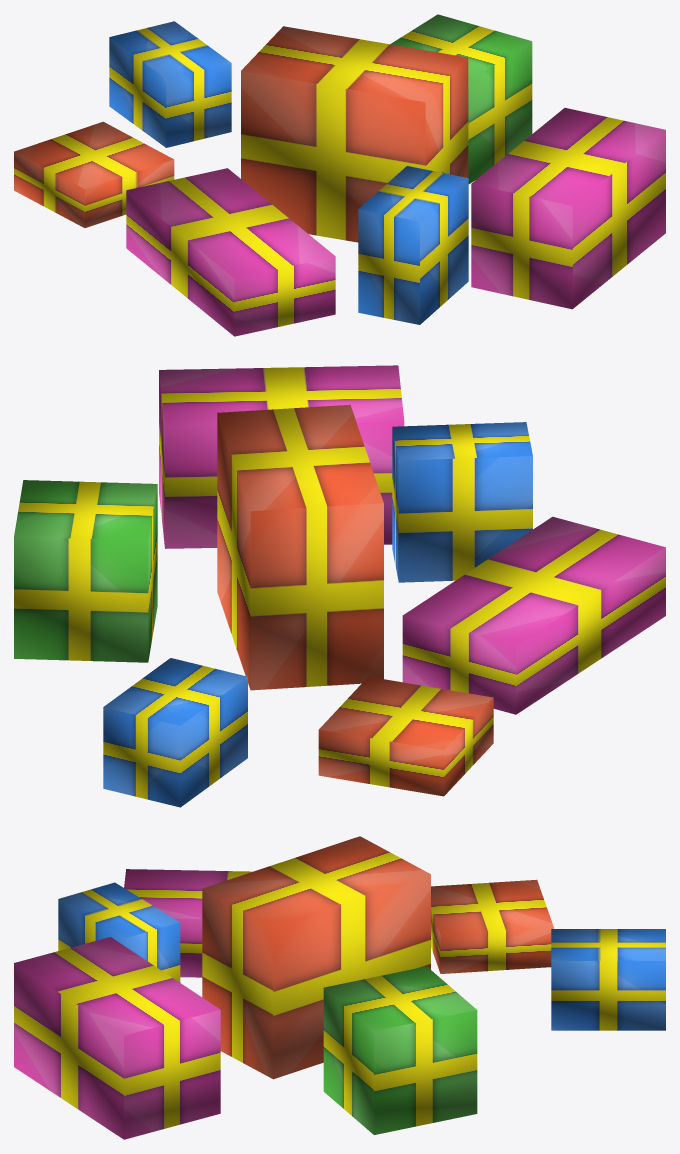
File: gift.fbx
3 renders of one model, top to bottom at view 1: azimuth 30°, elevation 25°; view 2: azimuth 150°, elevation 25°; view 3: azimuth 270°, elevation 25°, orthographic. The views are drawn at different scales.
Parts seen in each view (by area): view 1: Cube.002; view 2: Cube.002; view 3: Cube.002.
Part boxes in pixels (left/top/right/bottom): Cube.002: left=14, top=14, right=665, bottom=336; Cube.002: left=14, top=365, right=665, bottom=807; Cube.002: left=14, top=836, right=665, bottom=1139.
Bounding box in the file's own units: 9.05 × 11.36 × 2.94.
